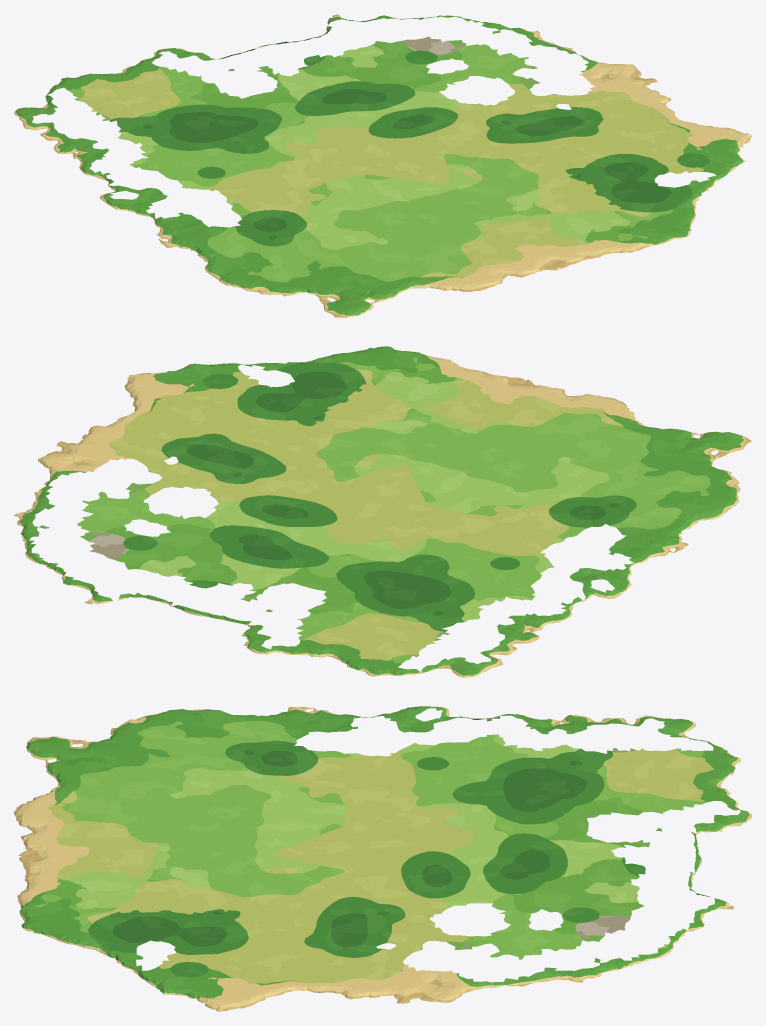
The model's file is Isl-bot1-Ground.fbx.
The picture shows the model from 3 angles, top to bottom: view 1: azimuth 30°, elevation 25°; view 2: azimuth 150°, elevation 25°; view 3: azimuth 270°, elevation 25°; orthographic projection. The views are drawn at different scales.
Visible parts, largest first — view 1: Isl-bot1-Ground-c11, Isl-bot1-Ground-c21, Isl-bot1-Ground-c12, Isl-bot1-Ground-c22; view 2: Isl-bot1-Ground-c11, Isl-bot1-Ground-c21, Isl-bot1-Ground-c12, Isl-bot1-Ground-c22; view 3: Isl-bot1-Ground-c21, Isl-bot1-Ground-c11, Isl-bot1-Ground-c12, Isl-bot1-Ground-c22.
Part boxes in pixels (<box>): Isl-bot1-Ground-c11: <box>142,151,554,317</box>; Isl-bot1-Ground-c21: <box>398,90,746,267</box>; Isl-bot1-Ground-c12: <box>14,48,397,215</box>; Isl-bot1-Ground-c22: <box>258,14,657,150</box>; Isl-bot1-Ground-c11: <box>358,381,751,571</box>; Isl-bot1-Ground-c21: <box>82,346,525,502</box>; Isl-bot1-Ground-c12: <box>205,502,631,677</box>; Isl-bot1-Ground-c22: <box>14,436,357,616</box>; Isl-bot1-Ground-c21: <box>20,852,379,1005</box>; Isl-bot1-Ground-c11: <box>21,707,379,854</box>; Isl-bot1-Ground-c12: <box>376,706,734,854</box>; Isl-bot1-Ground-c22: <box>376,852,732,1003</box>.
Bounding box in the file's own units: 114 × 0.4896 × 116.
